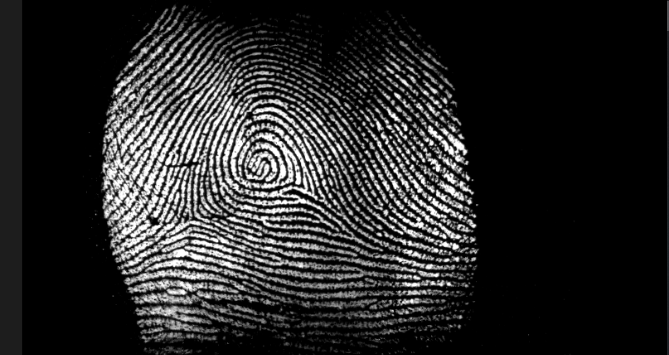nucelo: (240, 142, 285, 181)
verticilo: (173, 203, 209, 228), (304, 180, 326, 206)
